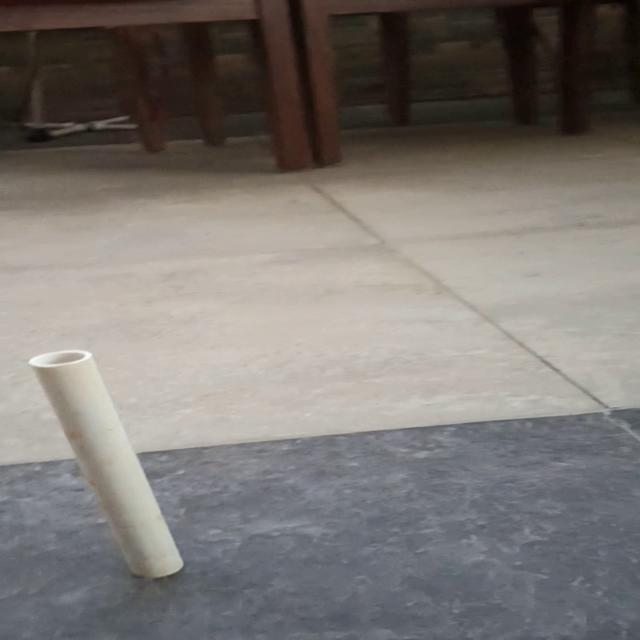Cube: (26, 349, 185, 579)
